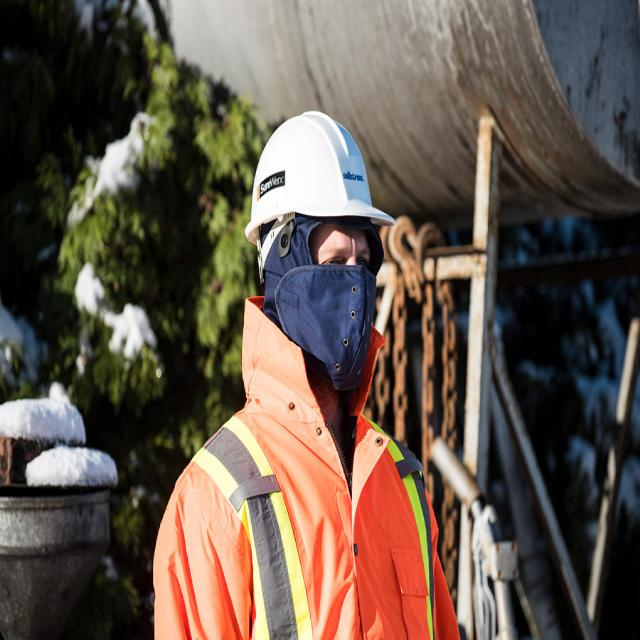Reflective-Jacket: (153, 382, 446, 637)
Safety-Helmet: (242, 105, 392, 247)
